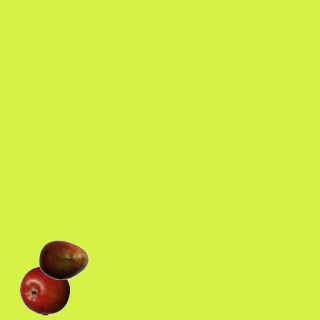Apple Braeburn: (19, 265, 69, 315)
Mango Red: (38, 234, 88, 284)
